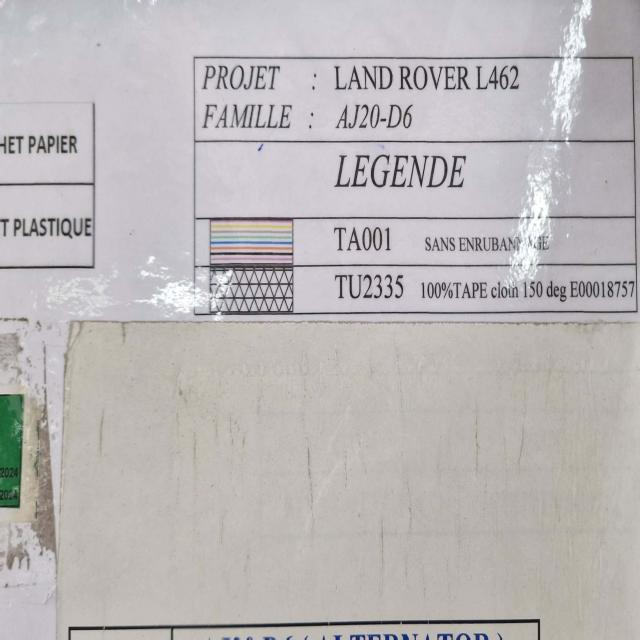Etiquette_Famille_AJ20_D-: (160, 17, 640, 319)
